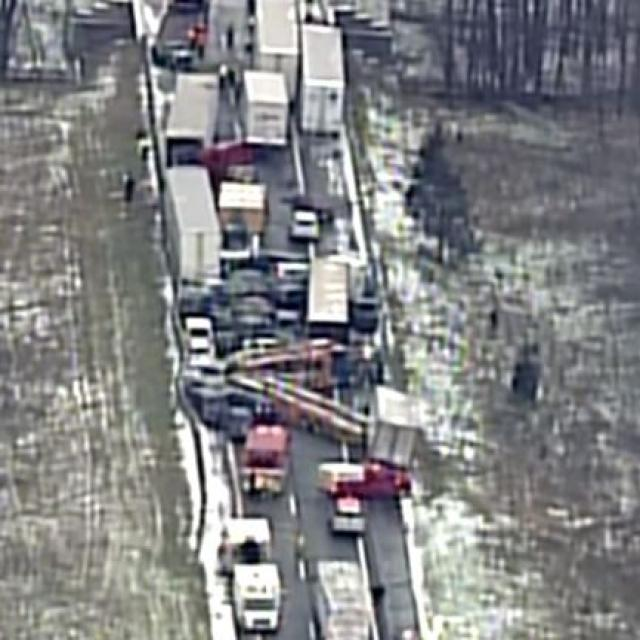traffic_incident: (164, 202, 429, 514)
